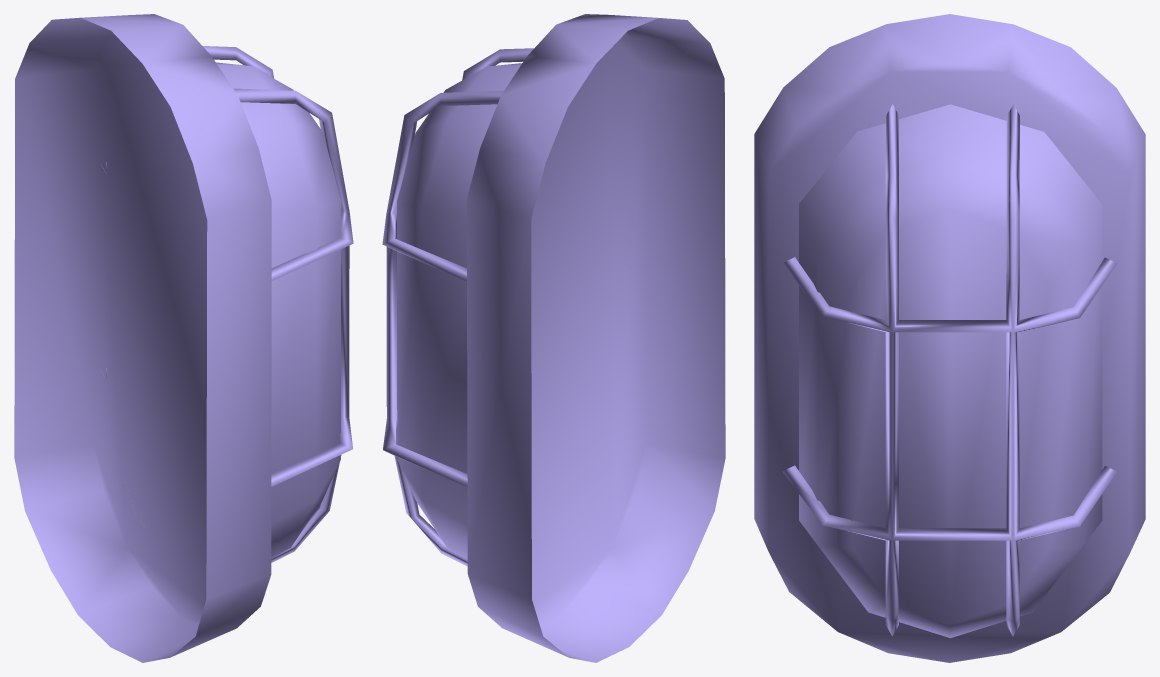
File: lightbulb3.fbx
3 renders of one model, left to right at view 1: azimuth 30°, elevation 25°; view 2: azimuth 150°, elevation 25°; view 3: azimuth 270°, elevation 25°, orthographic.
Parts seen in each view (by area): view 1: lamp_cod4_08; view 2: lamp_cod4_08; view 3: lamp_cod4_08.
Part boxes in pixels (left/top/right/bottom): lamp_cod4_08: left=14, top=14, right=353, bottom=662; lamp_cod4_08: left=382, top=14, right=725, bottom=662; lamp_cod4_08: left=754, top=14, right=1145, bottom=662.
Size of the model in its own units: 12.93 by 35.98 by 20.41.
